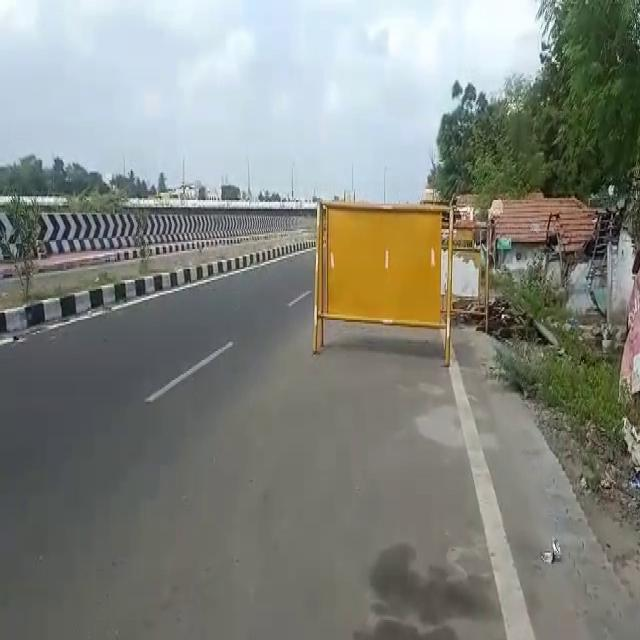fallen_object: (311, 198, 455, 365)
